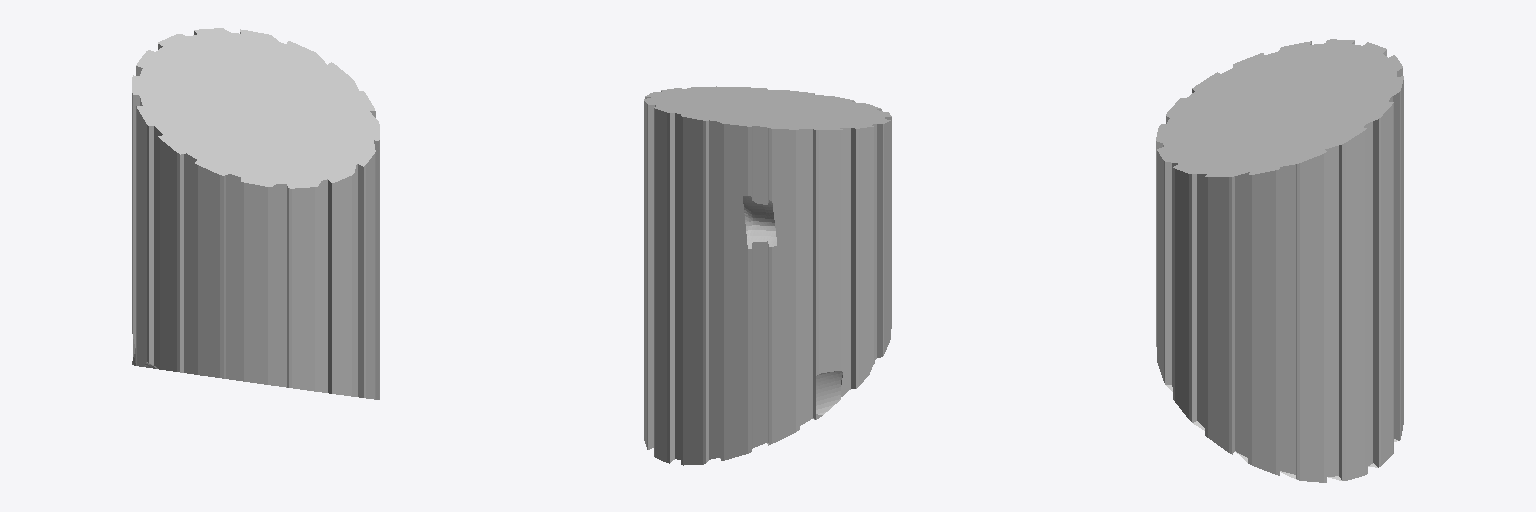
The model's file is ColumnSectionColumnSection3.obj.
3 views of the same model, side by side, from view 1: azimuth 30°, elevation 25°; view 2: azimuth 150°, elevation 25°; view 3: azimuth 270°, elevation 25° (orthographic).
Visible parts, largest first — view 1: ColumnSectionColumnSection3; view 2: ColumnSectionColumnSection3; view 3: ColumnSectionColumnSection3.
Part boxes in pixels (x1,y1,x2,y2): ColumnSectionColumnSection3: (132, 28, 379, 399); ColumnSectionColumnSection3: (644, 86, 891, 465); ColumnSectionColumnSection3: (1156, 39, 1403, 482).
Bounding box in the file's own units: 5.58 × 8.99 × 5.58.